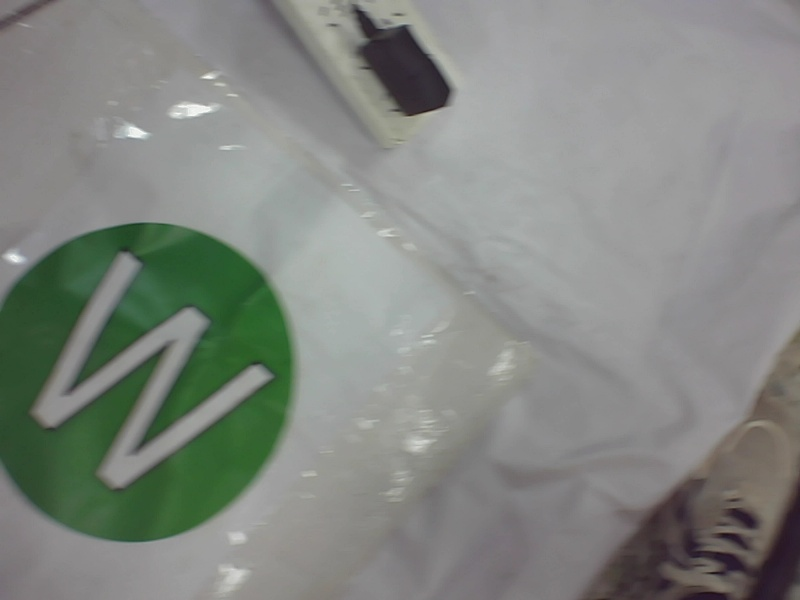areaB: (4, 212, 302, 544)
